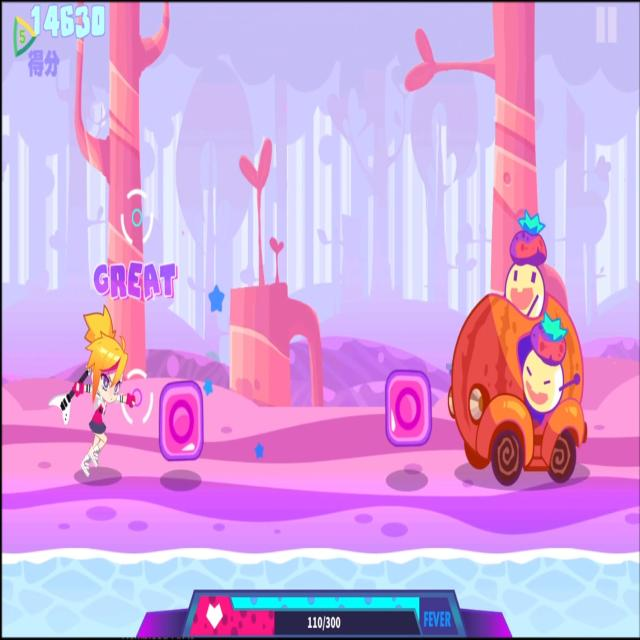cheboss: (442, 209, 592, 486)
kuai: (379, 362, 435, 461), (157, 375, 207, 467)
